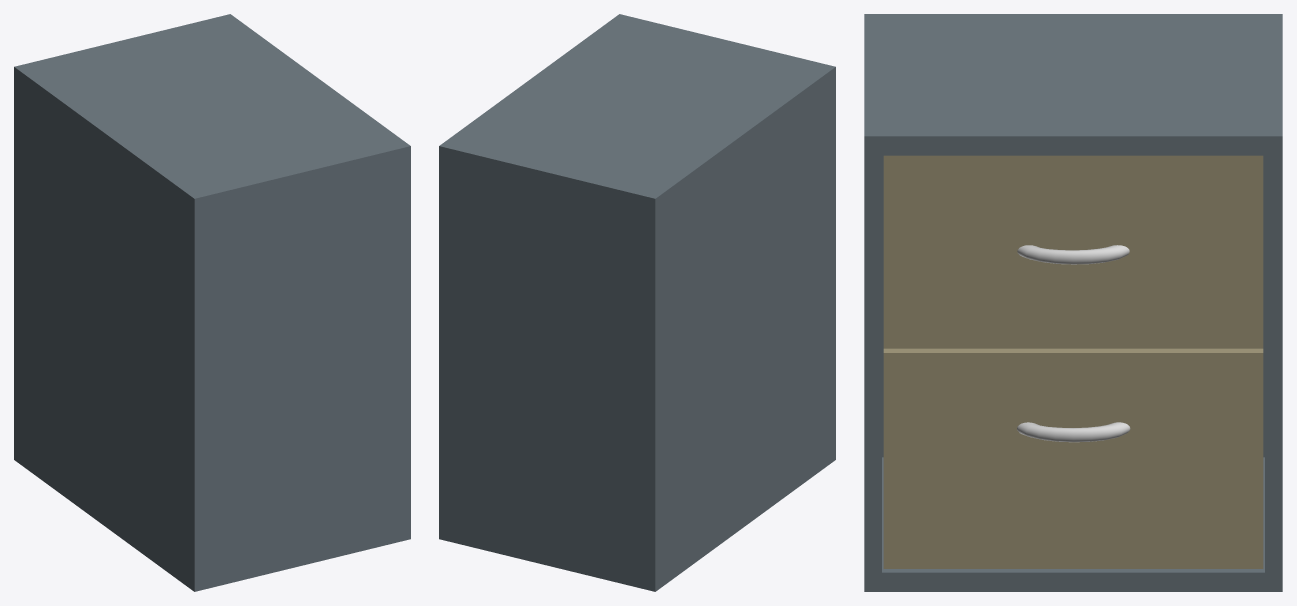
The model's file is cabinet.fbx.
3 views of the same model, side by side, from view 1: azimuth 30°, elevation 25°; view 2: azimuth 150°, elevation 25°; view 3: azimuth 270°, elevation 25° (orthographic). The views are drawn at different scales.
Visible parts, largest first — view 1: pCube1; view 2: pCube1; view 3: pCube1, pCube3, pTorus2.
Boxes of the visible parts, x1,y1,x2,y2 form: pCube1: (14, 14, 410, 591); pCube1: (439, 14, 835, 591); pCube1: (864, 14, 1282, 591); pCube3: (883, 348, 1263, 568); pTorus2: (883, 155, 1263, 348).
Size of the model in its own units: 3.58 by 5.93 by 4.93.
